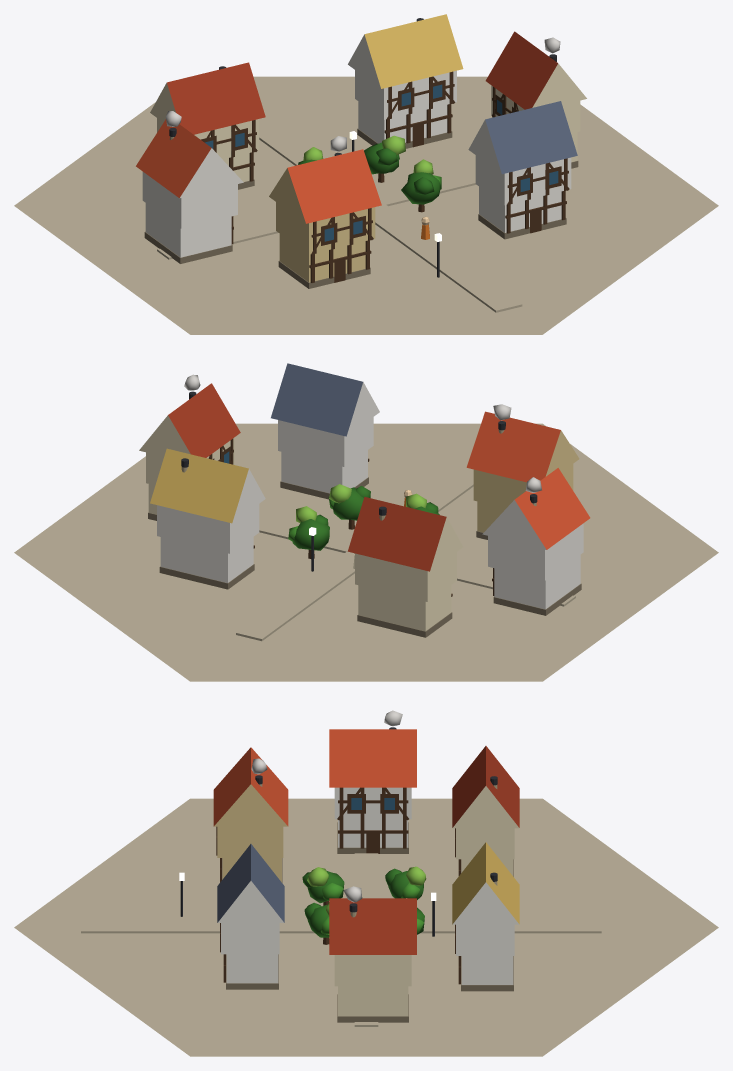
Rendered from district_neighborhood_2.fbx.
3 renders of one model, top to bottom at view 1: azimuth 30°, elevation 25°; view 2: azimuth 150°, elevation 25°; view 3: azimuth 270°, elevation 25°, orthographic.
Visible parts, largest first — view 1: district_neighborhood_2; view 2: district_neighborhood_2; view 3: district_neighborhood_2.
Boxes of the visible parts, <box> form: district_neighborhood_2: <box>14,14,718,334</box>; district_neighborhood_2: <box>14,363,718,681</box>; district_neighborhood_2: <box>14,710,718,1056</box>.
Bounding box in the file's own units: 182 × 42.52 × 210.
